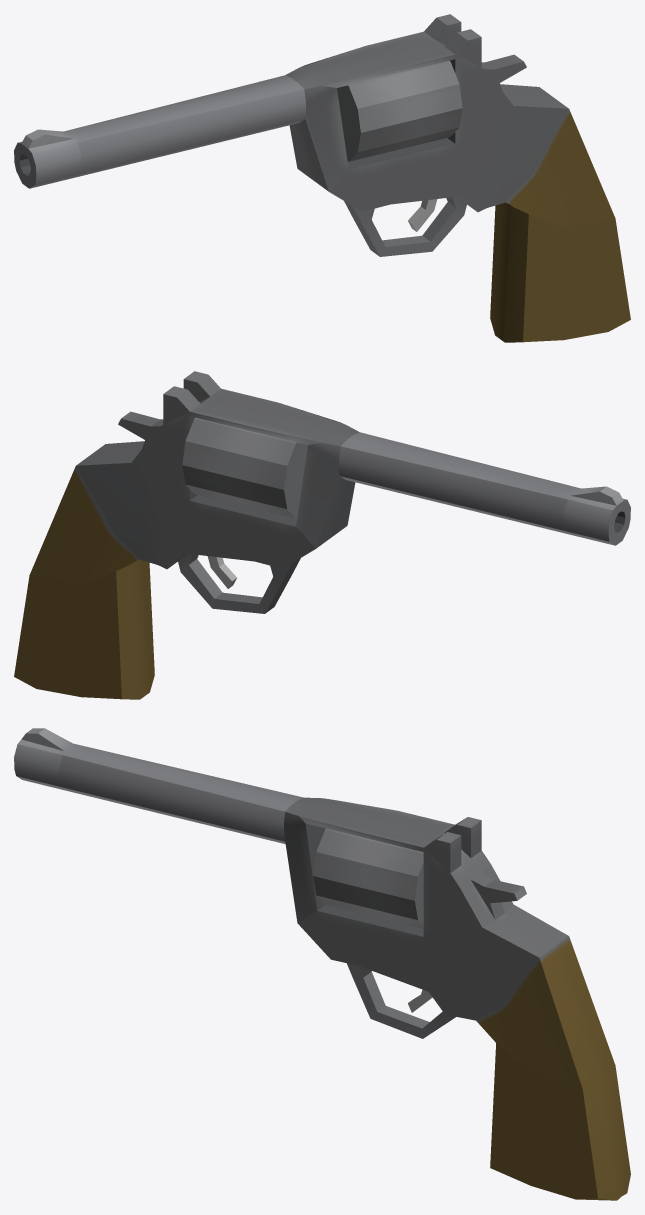
File: gun.fbx
The picture shows the model from 3 angles, top to bottom: view 1: azimuth 30°, elevation 25°; view 2: azimuth 150°, elevation 25°; view 3: azimuth 330°, elevation 25°; orthographic projection.
Parts seen in each view (by area): view 1: pCube2; view 2: pCube2; view 3: pCube2.
Boxes of the visible parts, left/top/right/bottom form: pCube2: left=14, top=14, right=630, bottom=342; pCube2: left=14, top=371, right=630, bottom=699; pCube2: left=14, top=728, right=630, bottom=1200.
Size of the model in its own units: 159 by 84.28 by 22.
